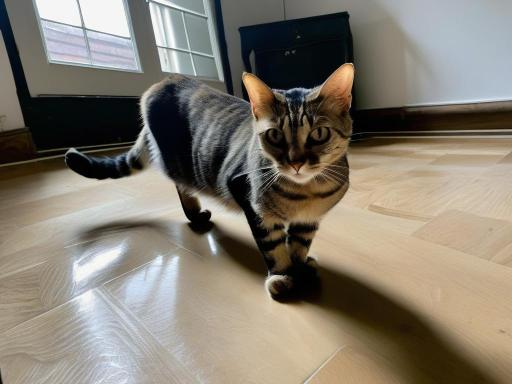cat_standing: (65, 63, 354, 296)
